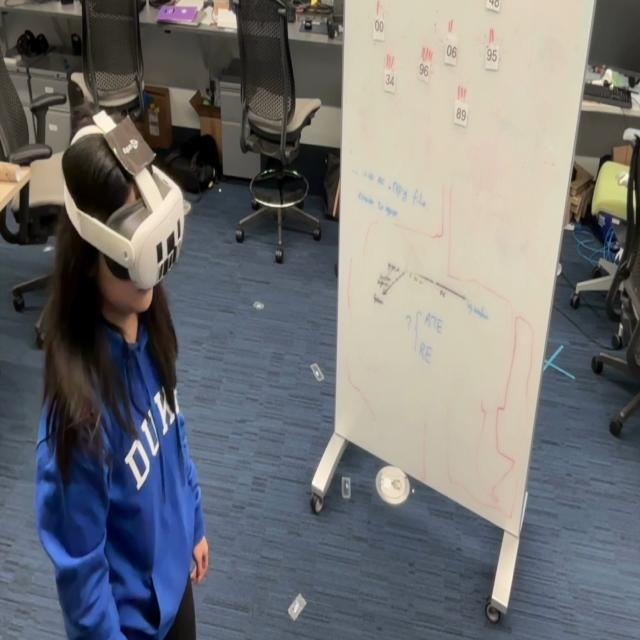Headset: (61, 114, 185, 290)
UnityLogo: (106, 120, 158, 182)
